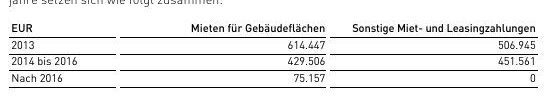table: (0, 0, 554, 101)
